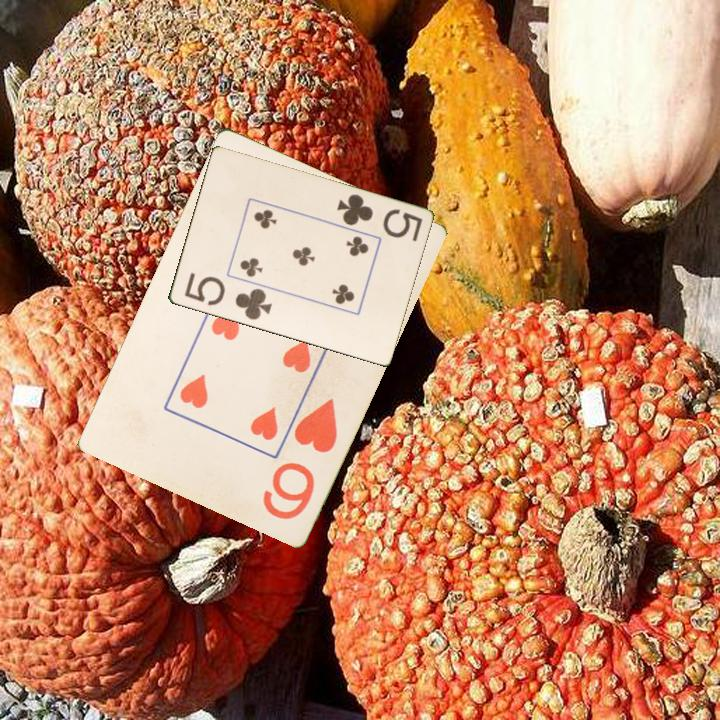5c: (181, 269, 275, 323), (333, 191, 425, 245)
6h: (258, 394, 341, 522)
